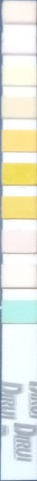color 1: (3, 5, 34, 21)
color 10: (3, 302, 37, 321)
color 2: (3, 34, 34, 52)
color 3: (3, 67, 35, 84)
color 4: (2, 98, 35, 117)
color 5: (2, 131, 35, 150)
color 6: (3, 165, 37, 184)
color 7: (2, 197, 35, 217)
color 8: (3, 233, 37, 251)
color 9: (3, 266, 37, 286)
